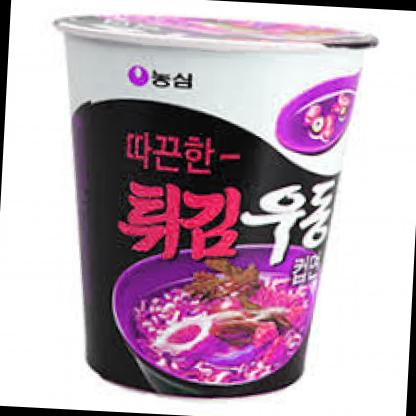Ramen: (35, 0, 387, 411)
